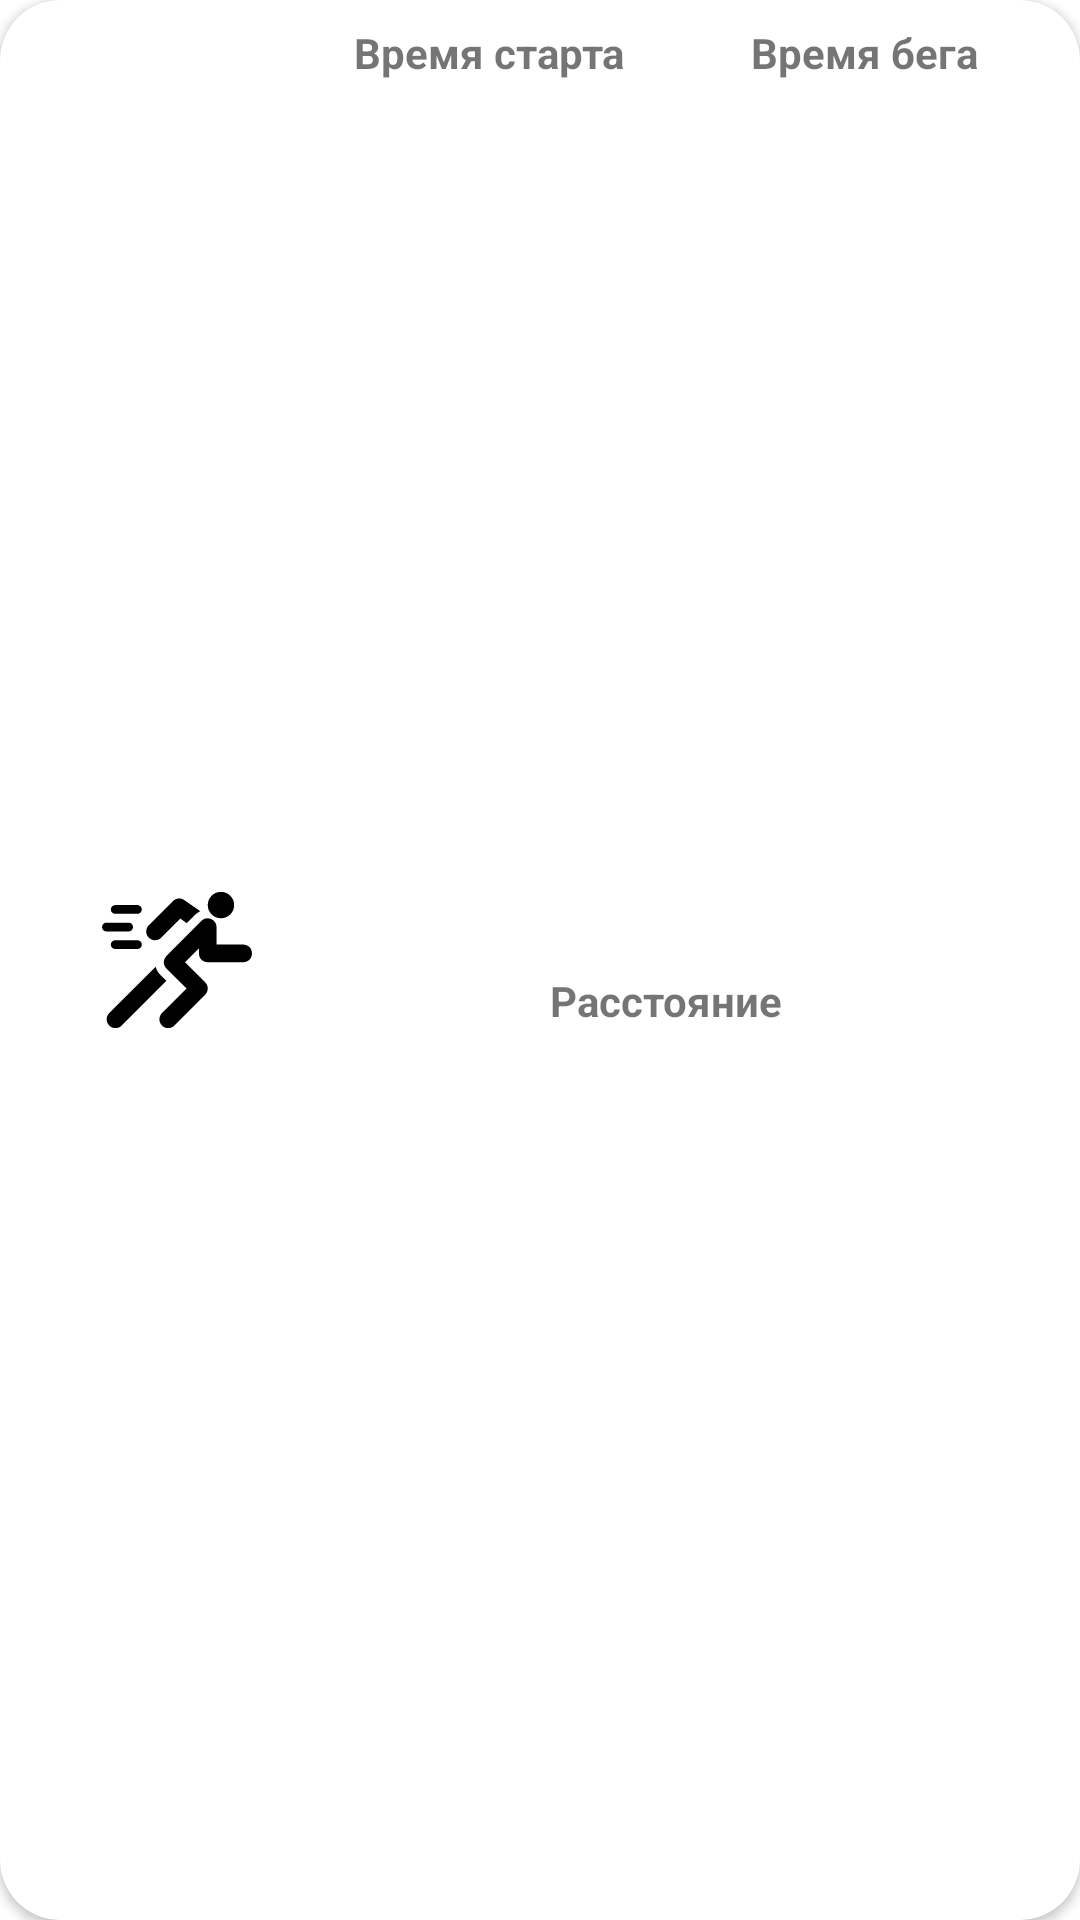

Screen size 1080 x 1920. Icon name, then its box in pixels as BBox(x1, y1, x2, y2):
running: BBox(102, 892, 252, 1028)
